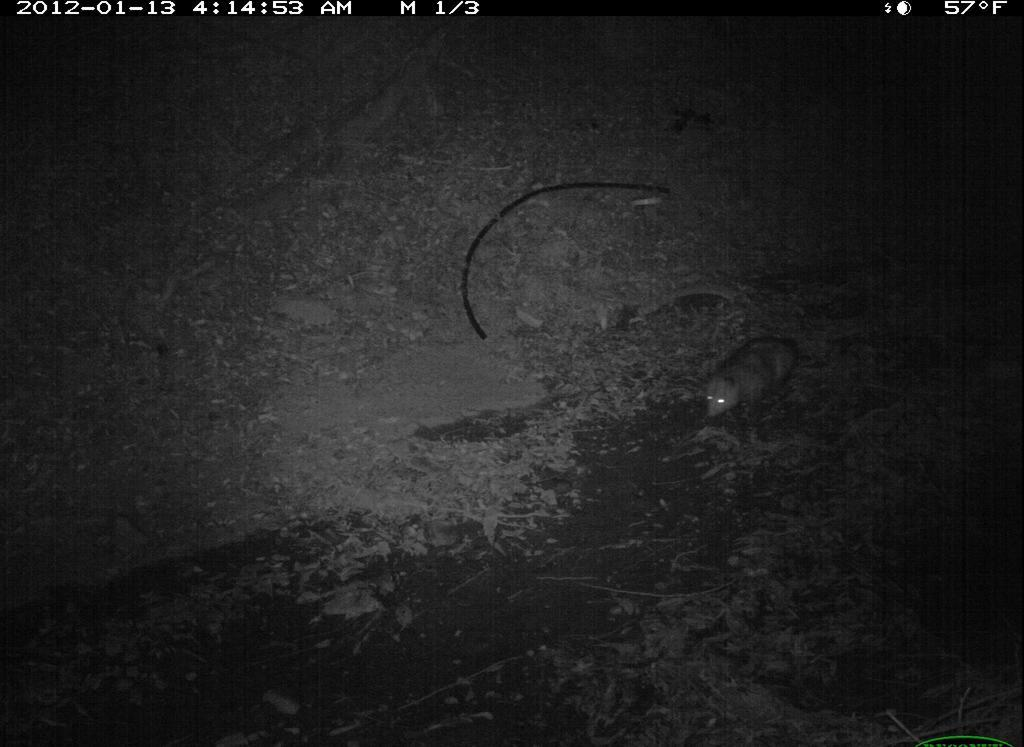opossum: (692, 317, 811, 429)
